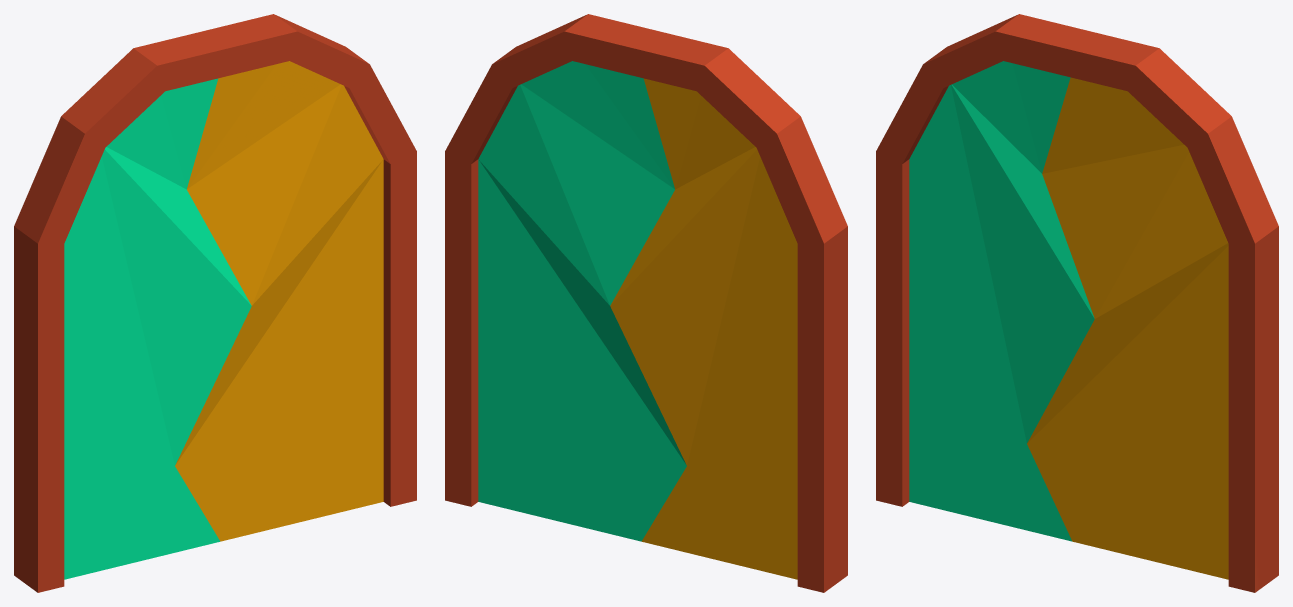
The model's file is Door.FBX.
The picture shows the model from 3 angles, left to right: view 1: azimuth 30°, elevation 25°; view 2: azimuth 150°, elevation 25°; view 3: azimuth 330°, elevation 25°; orthographic projection.
Parts seen in each view (by area): view 1: Door, DoorFrame; view 2: Door, DoorFrame; view 3: Door, DoorFrame.
Part boxes in pixels (x1,y1,x2,y2): Door: (64,61,383,579); DoorFrame: (14,14,416,592); Door: (478,61,797,579); DoorFrame: (445,14,847,592); Door: (909,61,1228,579); DoorFrame: (876,14,1278,592).
Size of the model in its own units: 172 by 216 by 18.78.
Materials: 1 (1 with a texture image).
